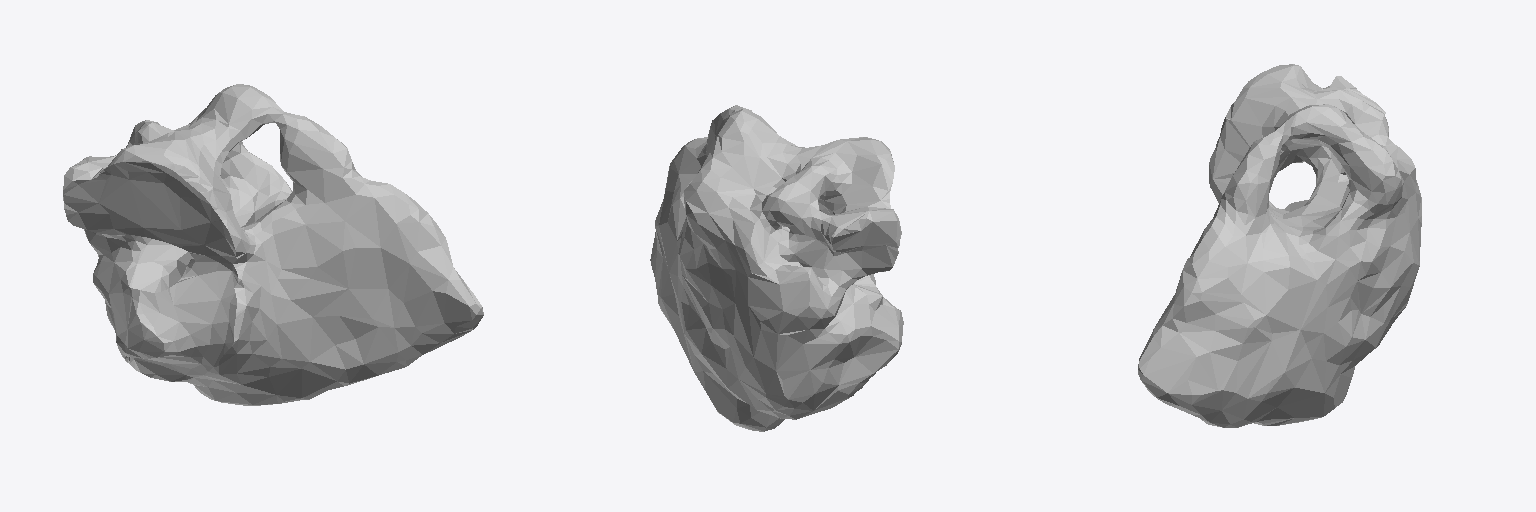
3 views of the same model, side by side, from view 1: azimuth 30°, elevation 25°; view 2: azimuth 150°, elevation 25°; view 3: azimuth 270°, elevation 25° (orthographic).
Parts seen in each view (by area): view 1: Polygonal_Model_10_Triangles_0; view 2: Polygonal_Model_10_Triangles_0; view 3: Polygonal_Model_10_Triangles_0.
Boxes of the visible parts, box(x1,y1,x2,y2) form: Polygonal_Model_10_Triangles_0: box(63, 84, 483, 405); Polygonal_Model_10_Triangles_0: box(650, 105, 903, 431); Polygonal_Model_10_Triangles_0: box(1138, 64, 1421, 427).
Bounding box in the file's own units: 0.6801 × 0.6151 × 0.5137.